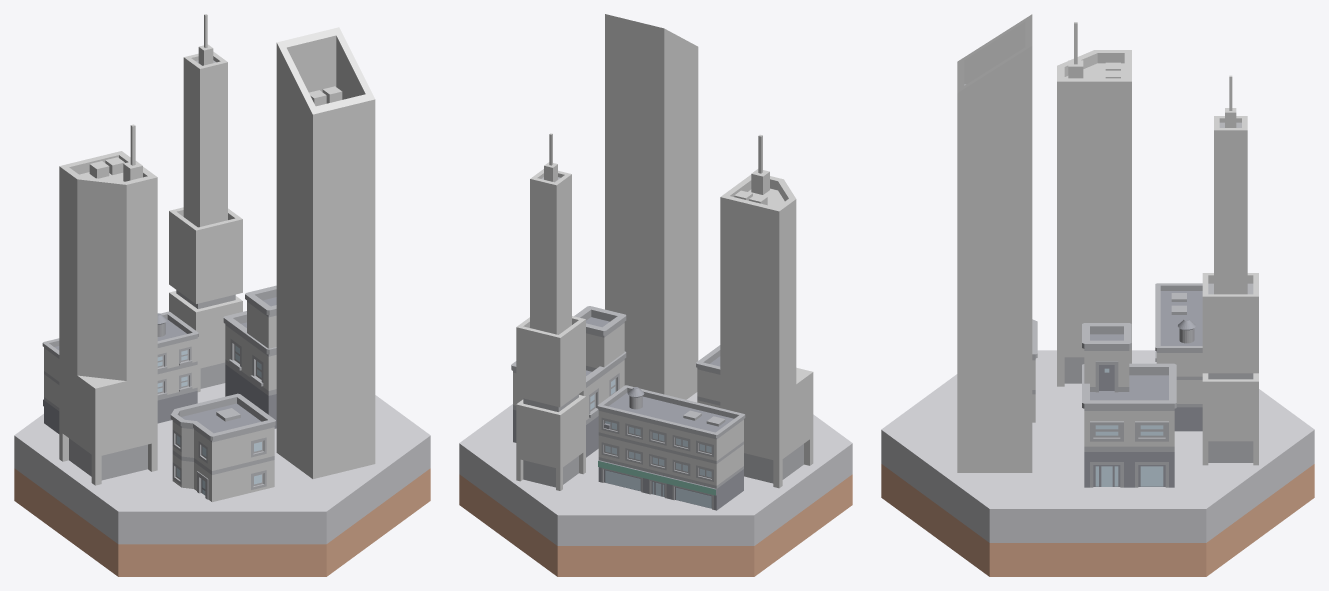
The model's file is 6_buildings_1_high.fbx.
3 views of the same model, side by side, from view 1: azimuth 30°, elevation 25°; view 2: azimuth 150°, elevation 25°; view 3: azimuth 270°, elevation 25° (orthographic). The views are drawn at different scales.
Visible parts, largest first — view 1: low_buildingL, pavement_high.012, low_buildingB, low_buildingC, small_buildingB, small_buildingF, large_buildingF; view 2: pavement_high.012, low_buildingL, low_buildingB, low_buildingC, large_buildingF, small_buildingF, small_buildingB; view 3: pavement_high.012, low_buildingL, low_buildingB, low_buildingC, small_buildingF, large_buildingF.
Boxes of the visible parts, <box> form: low_buildingL: <box>276,27,375,478</box>; pavement_high.012: <box>14,383,430,576</box>; low_buildingB: <box>59,124,157,485</box>; low_buildingC: <box>169,14,242,392</box>; small_buildingB: <box>170,393,275,502</box>; small_buildingF: <box>223,285,276,428</box>; large_buildingF: <box>42,311,198,433</box>; pavement_high.012: <box>459,392,852,576</box>; low_buildingL: <box>605,14,698,399</box>; low_buildingB: <box>720,134,813,488</box>; low_buildingC: <box>516,133,585,490</box>; large_buildingF: <box>597,385,745,510</box>; small_buildingF: <box>511,306,626,457</box>; small_buildingB: <box>696,345,720,407</box>; pavement_high.012: <box>881,350,1314,576</box>; low_buildingL: <box>957,14,1032,472</box>; low_buildingB: <box>1057,22,1131,386</box>; low_buildingC: <box>1202,75,1258,465</box>; small_buildingF: <box>1082,323,1176,487</box>; large_buildingF: <box>1155,283,1202,431</box>.
Size of the model in its own units: 100 by 146 by 115.
